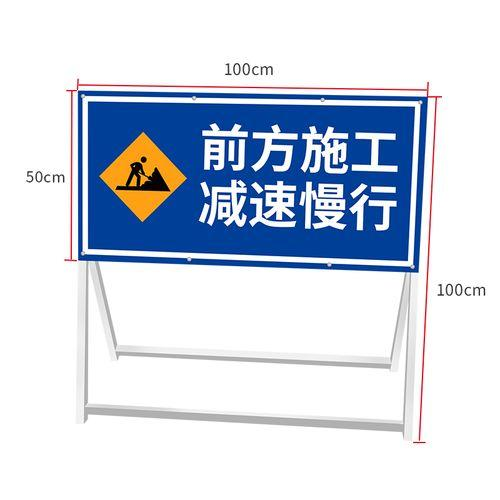sign: (79, 91, 418, 266)
